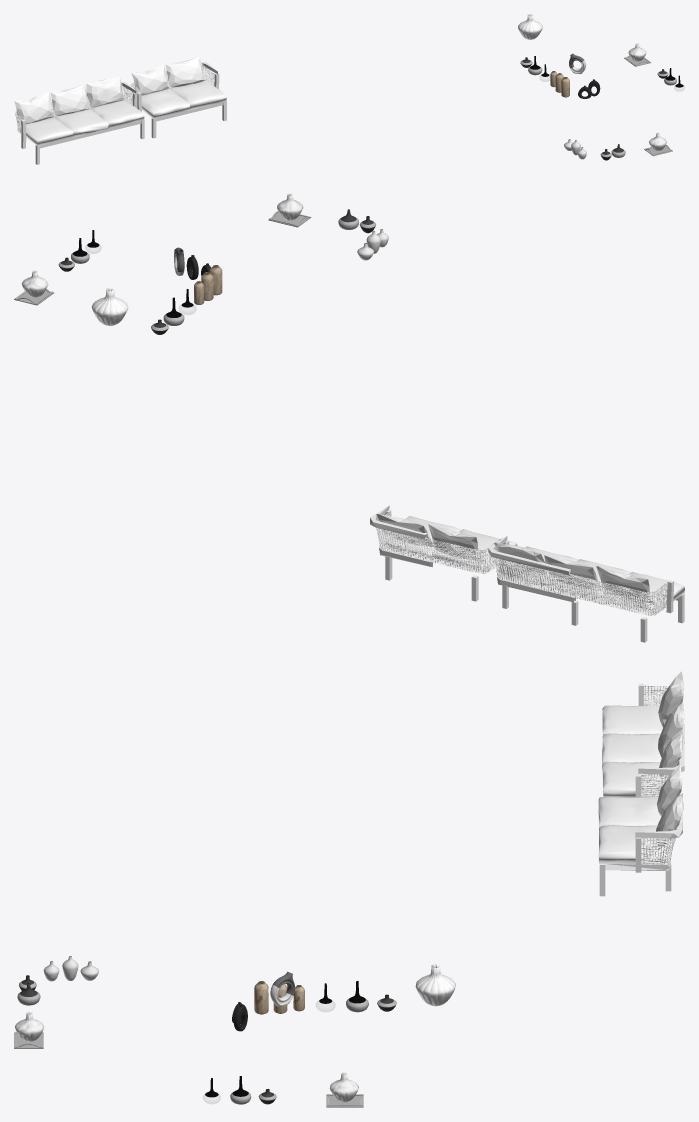
File: thucong_L4.glb
The picture shows the model from 3 angles, top to bottom: view 1: azimuth 30°, elevation 25°; view 2: azimuth 150°, elevation 25°; view 3: azimuth 270°, elevation 25°; orthographic projection. The views are drawn at different scales.
Parts seen in each view (by area): view 1: _l4_sofa, _l4_sofa.001, _l4_vase.018; view 2: _l4_sofa, _l4_sofa.001, _l4_vase.018; view 3: _l4_sofa, _l4_sofa.001, _l4_vase.018.
Part boxes in pixels (bbox=[...]): _l4_sofa: bbox=[14, 77, 144, 164]; _l4_sofa.001: bbox=[130, 57, 226, 138]; _l4_vase.018: bbox=[518, 14, 542, 39]; _l4_sofa: bbox=[488, 536, 684, 642]; _l4_sofa.001: bbox=[370, 505, 517, 601]; _l4_vase.018: bbox=[91, 288, 128, 325]; _l4_sofa: bbox=[602, 671, 684, 797]; _l4_sofa.001: bbox=[598, 764, 683, 896]; _l4_vase.018: bbox=[415, 964, 455, 1006].
Bounding box in the file's own units: 14.61 × 2.11 × 9.81.
Materials: 34 (3 with a texture image).
